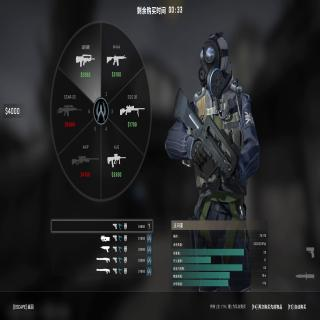CT-Head: (198, 31, 229, 94)
